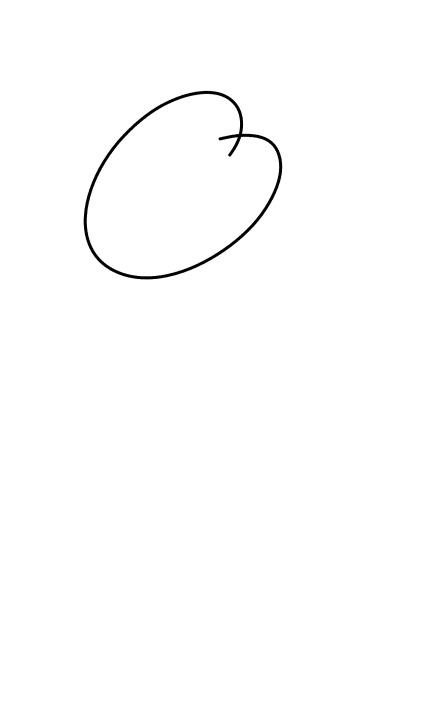Circle: (78, 87, 288, 285)
